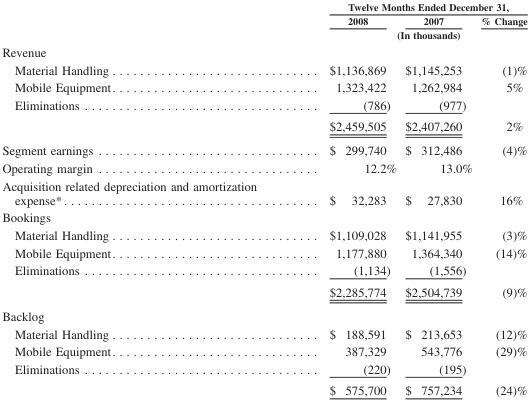table: (1, 1, 526, 397)
table column: (1, 1, 292, 397), (292, 1, 400, 397), (400, 1, 476, 397), (476, 1, 526, 397)
table column header: (1, 1, 526, 42)
table projected row header: (1, 303, 526, 324), (1, 42, 526, 60), (1, 208, 526, 225)
table row: (1, 176, 526, 208), (1, 115, 526, 138), (1, 280, 526, 303), (1, 303, 526, 324), (1, 95, 526, 115), (1, 138, 526, 158), (1, 359, 526, 379), (1, 261, 526, 280), (1, 42, 526, 60), (1, 60, 526, 78), (1, 158, 526, 176), (1, 225, 526, 243), (1, 243, 526, 261), (1, 324, 526, 342), (1, 379, 526, 397), (1, 78, 526, 95), (1, 208, 526, 225), (1, 342, 526, 359), (1, 27, 526, 42), (1, 13, 526, 27), (1, 1, 526, 13)
table spanning cell: (292, 27, 526, 42), (292, 1, 526, 13)
